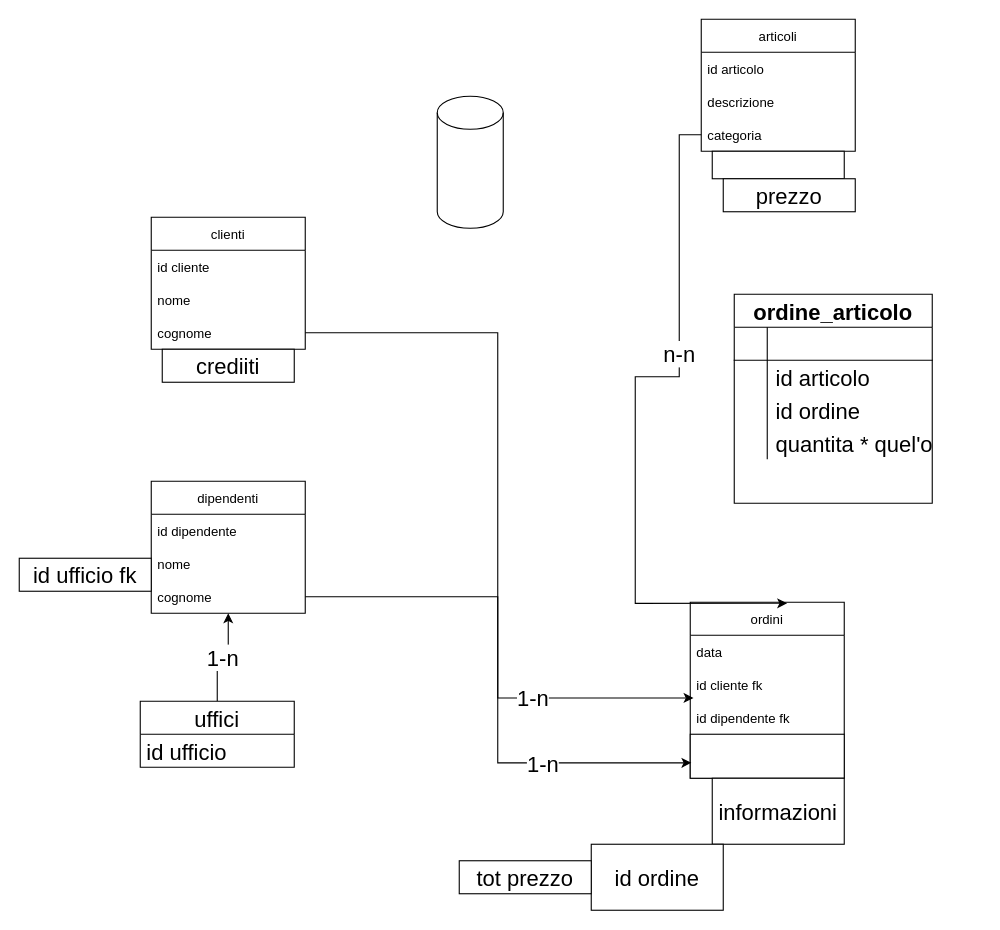
The diagram is 1000 pixels wide and 930 high, and some of its shapes have lost their labels. The shapes that lost their labels are listed below. From the top down, each one's centre as x and y in pixels, then its label:
At (469,161): "gestionale".
At (777,164): "disponibilità".
At (766,755): "stato ordine".
